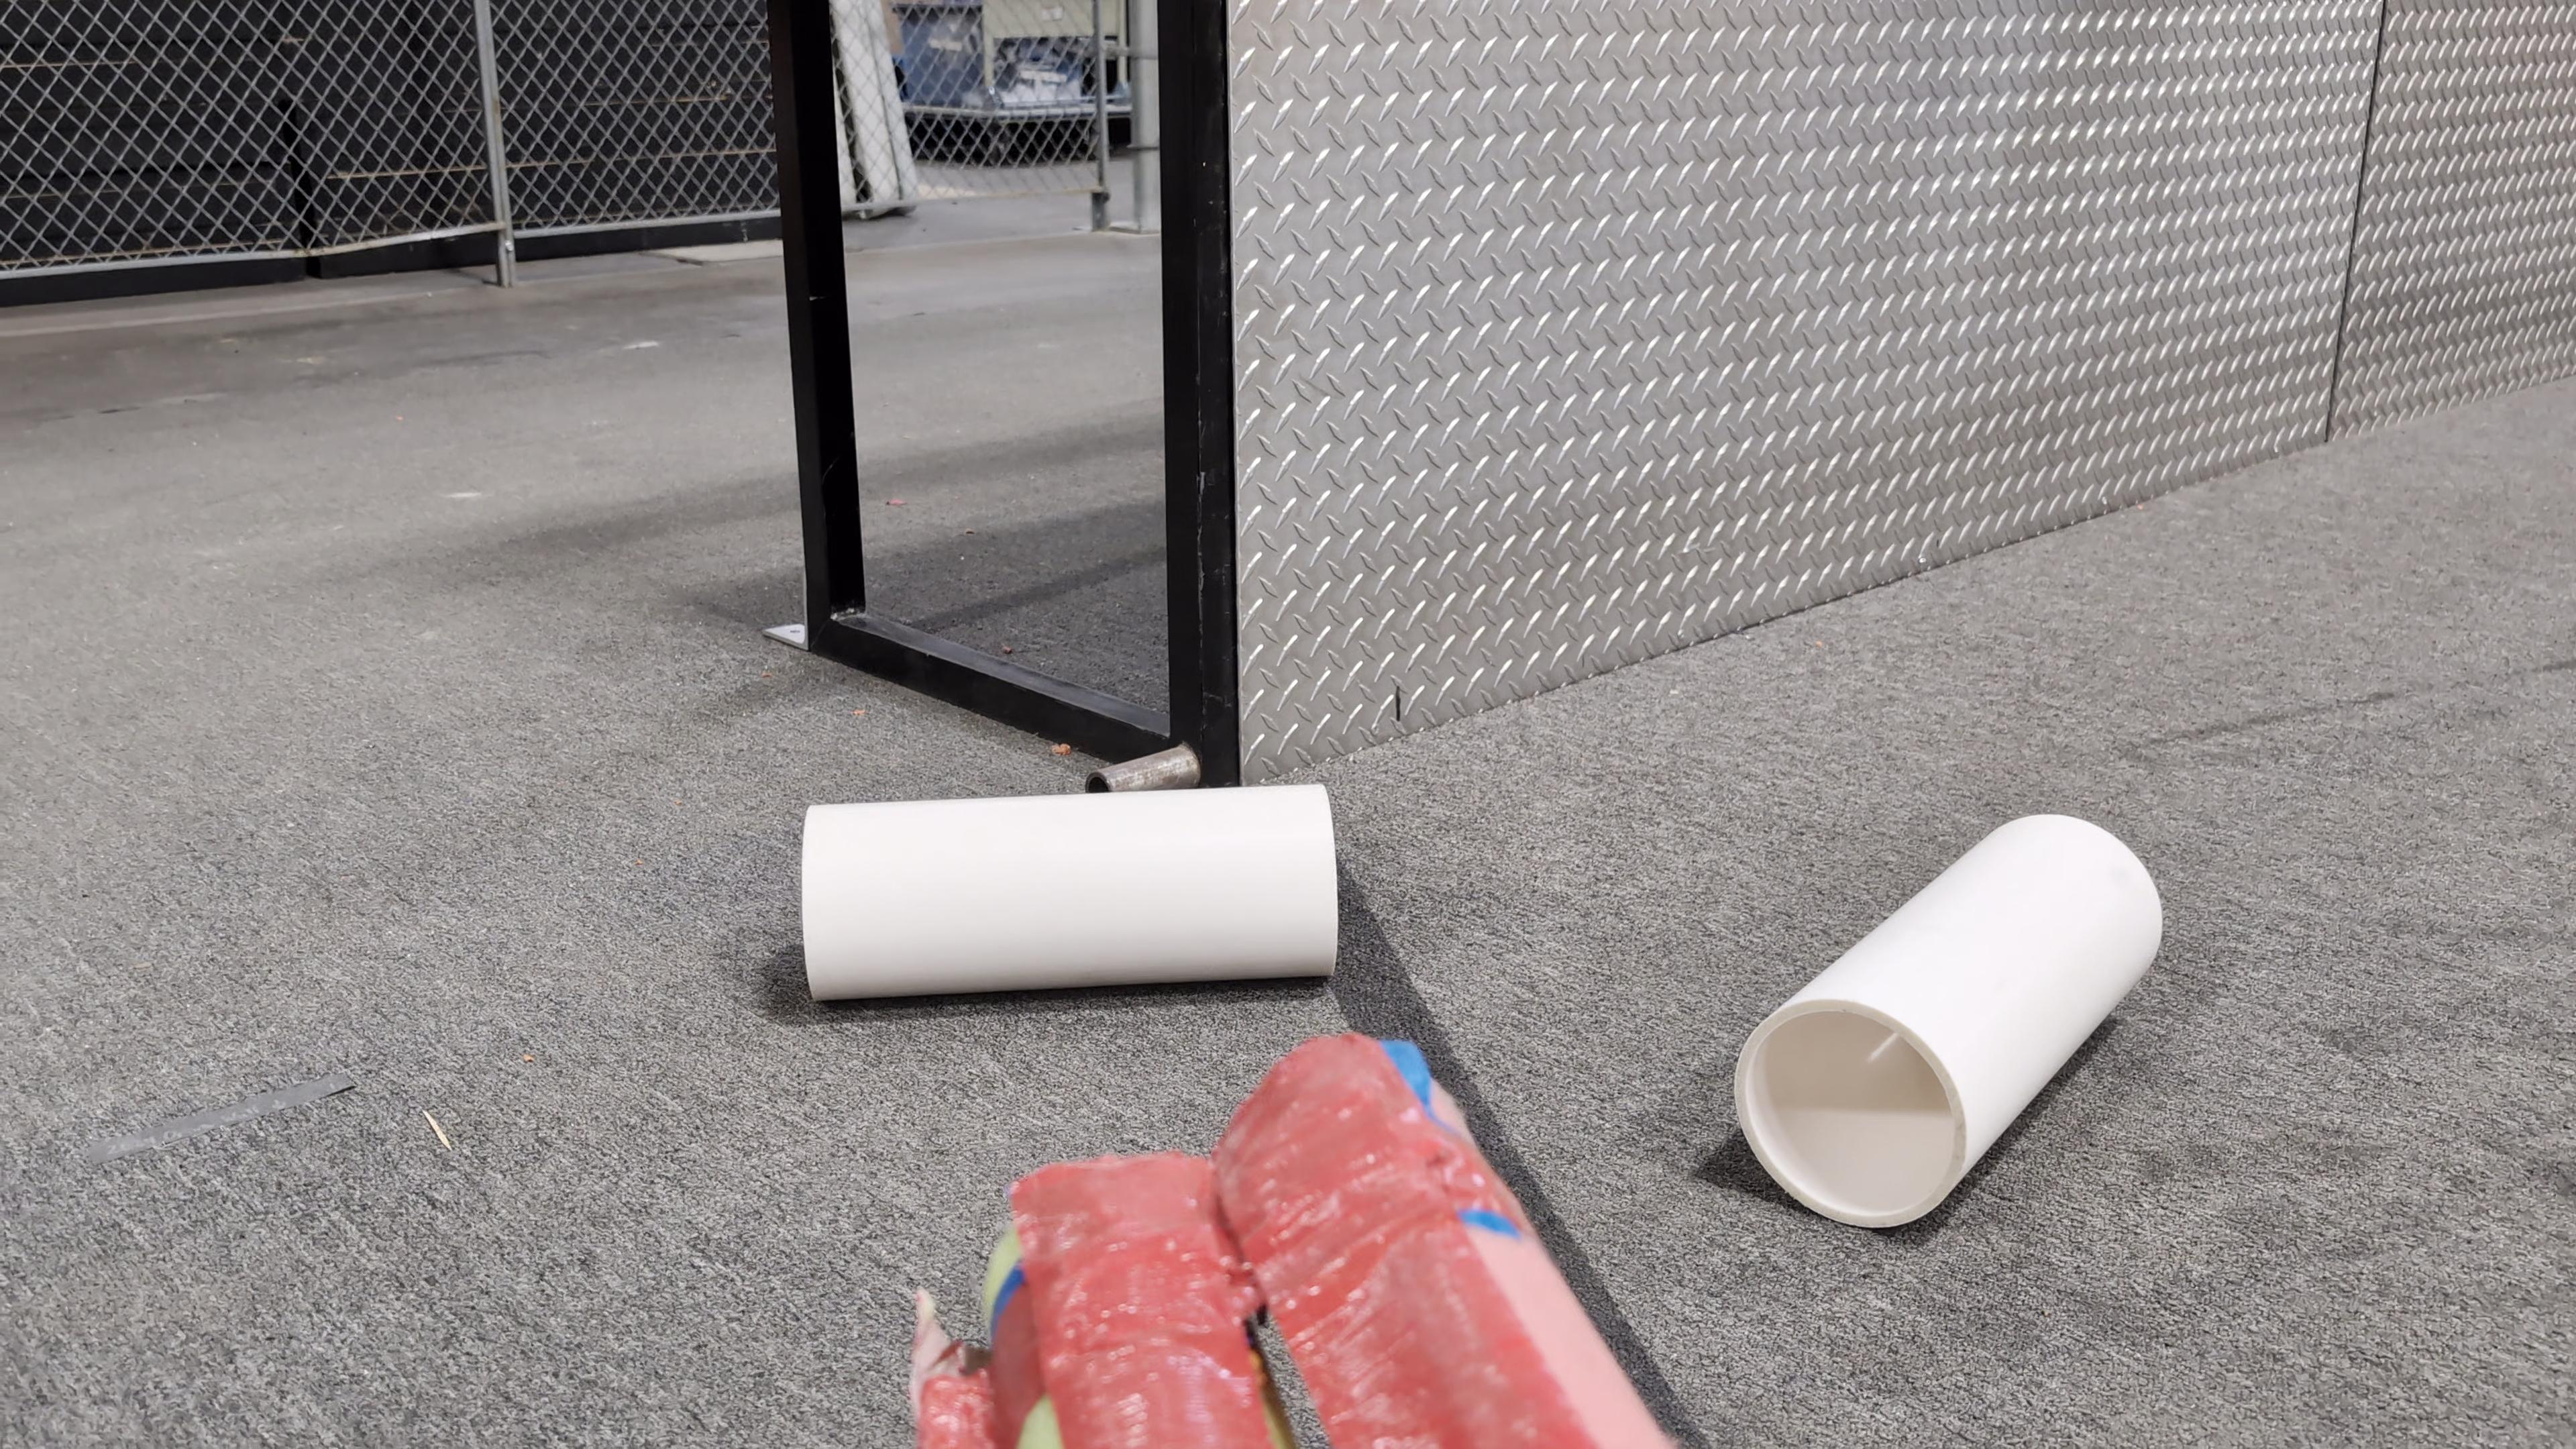coral: (1732, 809, 2166, 1226), (796, 775, 1343, 1001)
